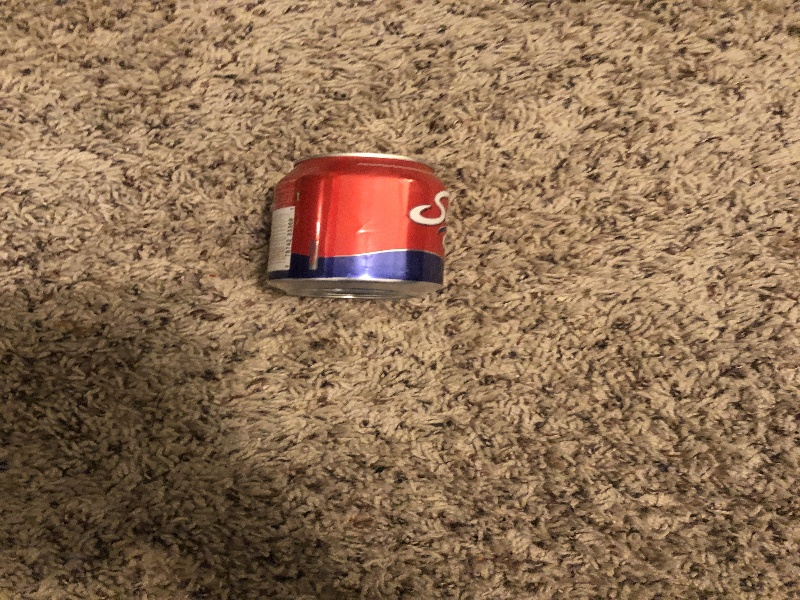metal: (250, 145, 463, 312)
